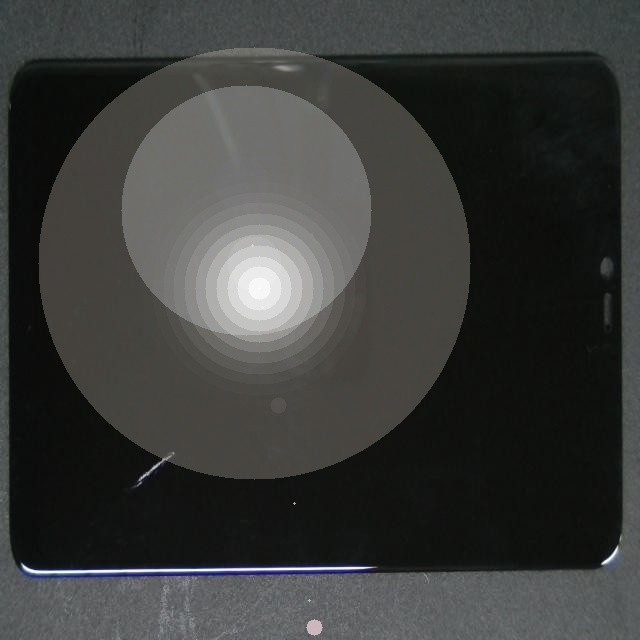scratch: (58, 216, 192, 640)
